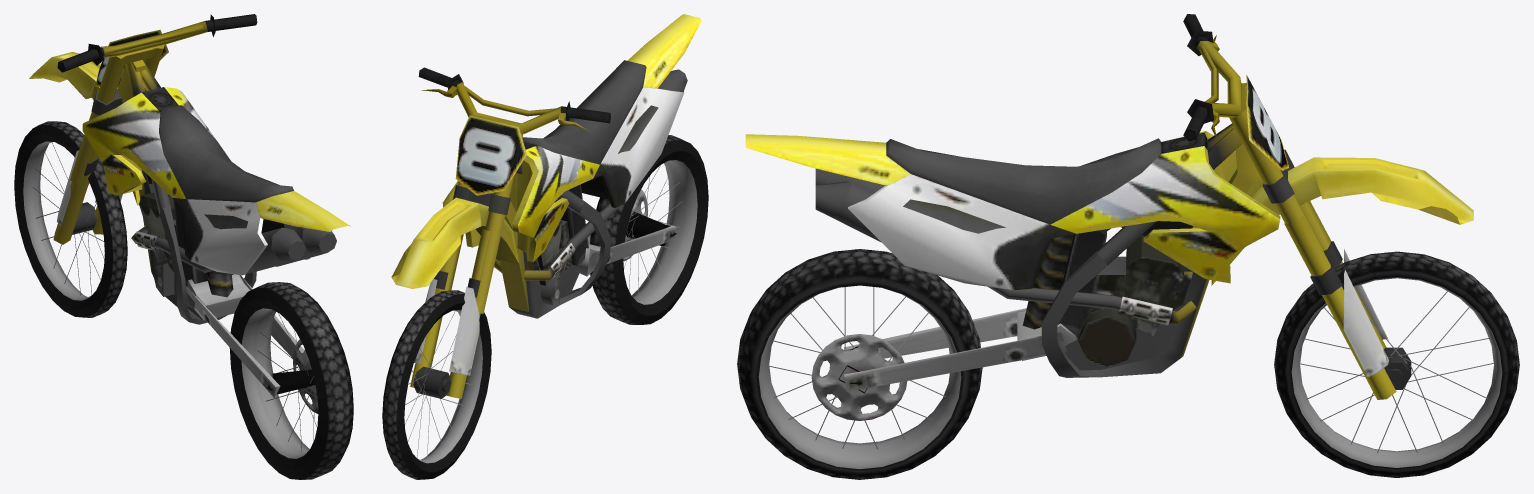
Rendered from bike.dae.
3 views of the same model, side by side, from view 1: azimuth 30°, elevation 25°; view 2: azimuth 150°, elevation 25°; view 3: azimuth 270°, elevation 25° (orthographic). The views are drawn at different scales.
Visible parts, largest first — view 1: M0_Bike_0_0_node, BackWheel_0_0_node, FrontWheel_0_0_node, M0_Bike_0_0_node.001, M0_SwingArm_0_0_node, M0_FrontFork_0_0_node; view 2: M0_Bike_0_0_node, M0_Bike_0_0_node.001, BackWheel_0_0_node, FrontWheel_0_0_node, M0_FrontFork_0_0_node, M0_SwingArm_0_0_node; view 3: M0_Bike_0_0_node, BackWheel_0_0_node, FrontWheel_0_0_node, M0_Bike_0_0_node.001, M0_FrontFork_0_0_node, M0_SwingArm_0_0_node.
Part boxes in pixels (x1,y1,x2,y2): M0_Bike_0_0_node: (82,60,350,324); BackWheel_0_0_node: (229,282,353,479); FrontWheel_0_0_node: (14,121,127,317); M0_Bike_0_0_node.001: (29,14,257,204); M0_SwingArm_0_0_node: (186,274,315,397); M0_FrontFork_0_0_node: (53,149,122,244); M0_Bike_0_0_node: (442,14,701,318); M0_Bike_0_0_node.001: (391,67,610,313); BackWheel_0_0_node: (590,135,708,324); FrontWheel_0_0_node: (382,290,491,479); M0_FrontFork_0_0_node: (410,229,490,398); M0_SwingArm_0_0_node: (571,211,676,276); M0_Bike_0_0_node: (745,123,1280,377); BackWheel_0_0_node: (737,249,982,479); FrontWheel_0_0_node: (1274,251,1519,477); M0_Bike_0_0_node.001: (1183,14,1473,291); M0_FrontFork_0_0_node: (1284,201,1411,399); M0_SwingArm_0_0_node: (838,308,1077,393).
Bounding box in the file's own units: 1.23 × 3.47 × 2.02.
Materials: 5 (5 with a texture image).
